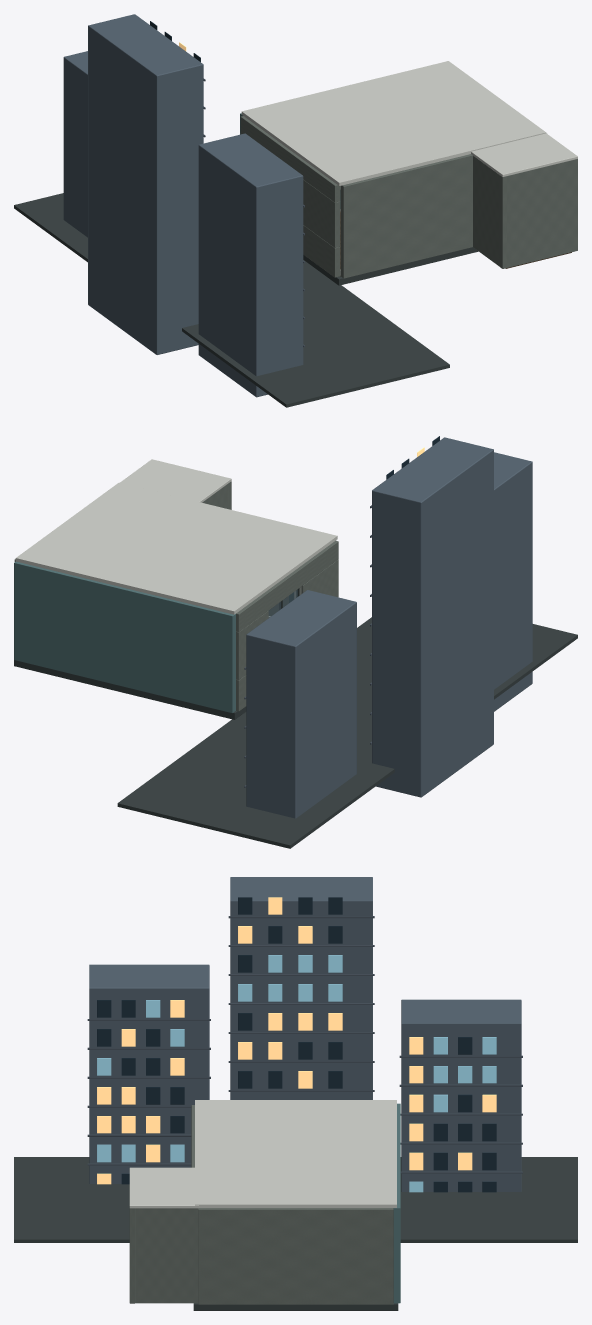
The model's file is SignalDebt_Apartment.glb.
The picture shows the model from 3 angles, top to bottom: view 1: azimuth 30°, elevation 25°; view 2: azimuth 150°, elevation 25°; view 3: azimuth 270°, elevation 25°; orthographic projection. The views are drawn at different scales.
Parts seen in each view (by area): view 1: City_Building_1, City_Building_0, Ceiling, Exterior_Alley, South_Wall_Left, Corridor_End, City_Building_2, Corridor_West, Corridor_Ceiling, West_Above_Window, West_Window_South, West_Below_Window (+1 smaller); view 2: City_Building_1, Ceiling, City_Building_2, North_Wall, Exterior_Alley, City_Building_0, Corridor_Ceiling, West_Above_Window, Foundation, West_Window_South, West_Window_North; view 3: City_Building_1, Ceiling, Exterior_Alley, East_Wall, City_Building_2, City_Building_0, Corridor_East, Corridor_Ceiling, Foundation, North_Wall, Corridor_End.
Part boxes in pixels (<box>): City_Building_1: <box>88,14,203,354</box>; City_Building_0: <box>198,133,303,397</box>; Ceiling: <box>241,61,546,185</box>; Exterior_Alley: <box>14,193,449,407</box>; South_Wall_Left: <box>340,154,472,278</box>; Corridor_End: <box>500,159,577,268</box>; City_Building_2: <box>63,51,87,237</box>; Corridor_West: <box>473,156,507,268</box>; Corridor_Ceiling: <box>471,133,577,176</box>; West_Above_Window: <box>240,116,340,202</box>; West_Window_South: <box>303,180,340,247</box>; West_Below_Window: <box>303,225,340,277</box>; City_Building_1: <box>372,437,493,797</box>; Ceiling: <box>15,482,337,614</box>; City_Building_2: <box>246,590,356,818</box>; North_Wall: <box>14,561,235,713</box>; Exterior_Alley: <box>117,617,577,848</box>; City_Building_0: <box>494,452,532,711</box>; Corridor_Ceiling: <box>120,459,231,502</box>; West_Above_Window: <box>236,540,338,631</box>; Foundation: <box>14,660,246,719</box>; West_Window_South: <box>301,559,338,597</box>; West_Window_North: <box>236,611,268,679</box>; City_Building_1: <box>230,877,372,1099</box>; Ceiling: <box>195,1100,396,1207</box>; Exterior_Alley: <box>14,1157,577,1242</box>; East_Wall: <box>198,1208,393,1304</box>; City_Building_2: <box>401,999,521,1191</box>; City_Building_0: <box>89,964,209,1183</box>; Corridor_East: <box>135,1208,198,1303</box>; Corridor_Ceiling: <box>129,1167,199,1208</box>; Foundation: <box>193,1303,398,1310</box>; North_Wall: <box>393,1103,400,1303</box>; Corridor_End: <box>129,1208,135,1303</box>.
Size of the model in its own units: 11.93 by 8.6 by 15.
51 materials, 5 textured.
